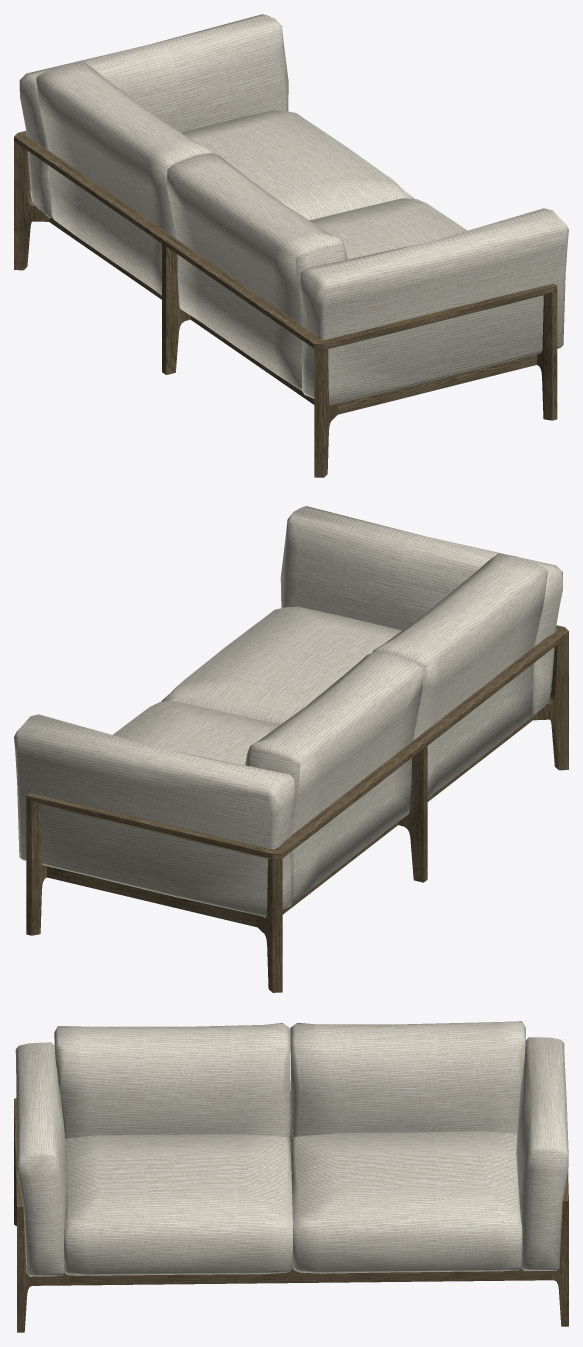
Rendered from sofa.glb.
3 renders of one model, top to bottom at view 1: azimuth 30°, elevation 25°; view 2: azimuth 150°, elevation 25°; view 3: azimuth 270°, elevation 25°, orthographic. The views are drawn at different scales.
Parts seen in each view (by area): view 1: Object_2; view 2: Object_2; view 3: Object_2.
Boxes of the visible parts, bbox=[...] form: Object_2: bbox=[14, 14, 568, 477]; Object_2: bbox=[14, 506, 568, 992]; Object_2: bbox=[14, 1021, 568, 1332].
Bounding box in the file's own units: 0.8 × 0.6 × 1.5.
1 material, 1 textured.
